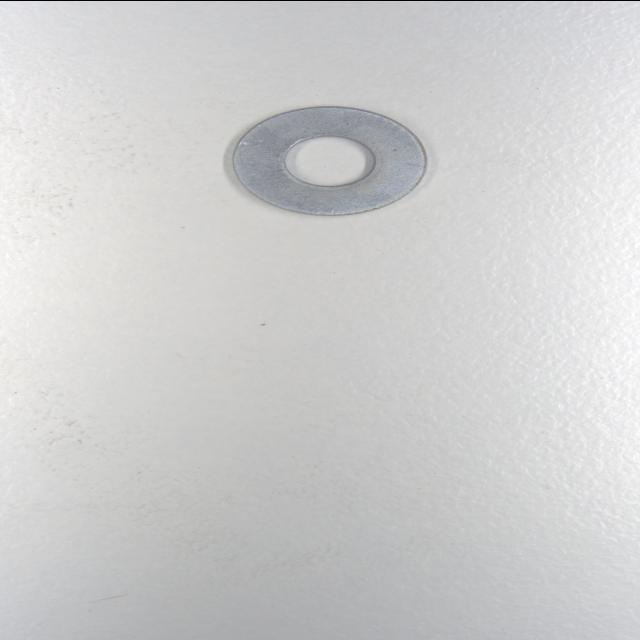washer: (227, 104, 432, 218)
